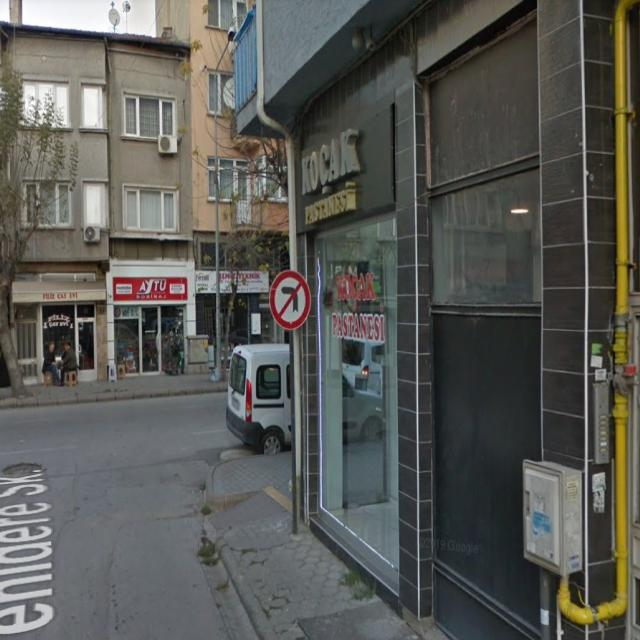soladonulmez: (270, 271, 311, 330)
